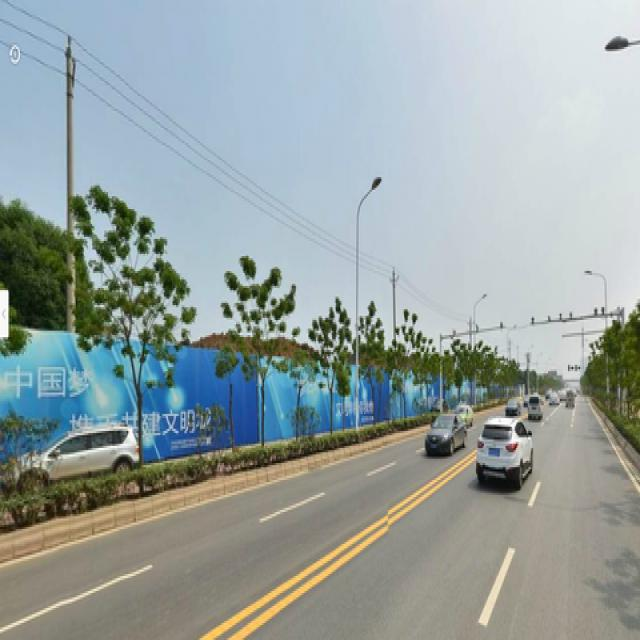sali: (83, 194, 180, 476), (223, 247, 284, 448)
